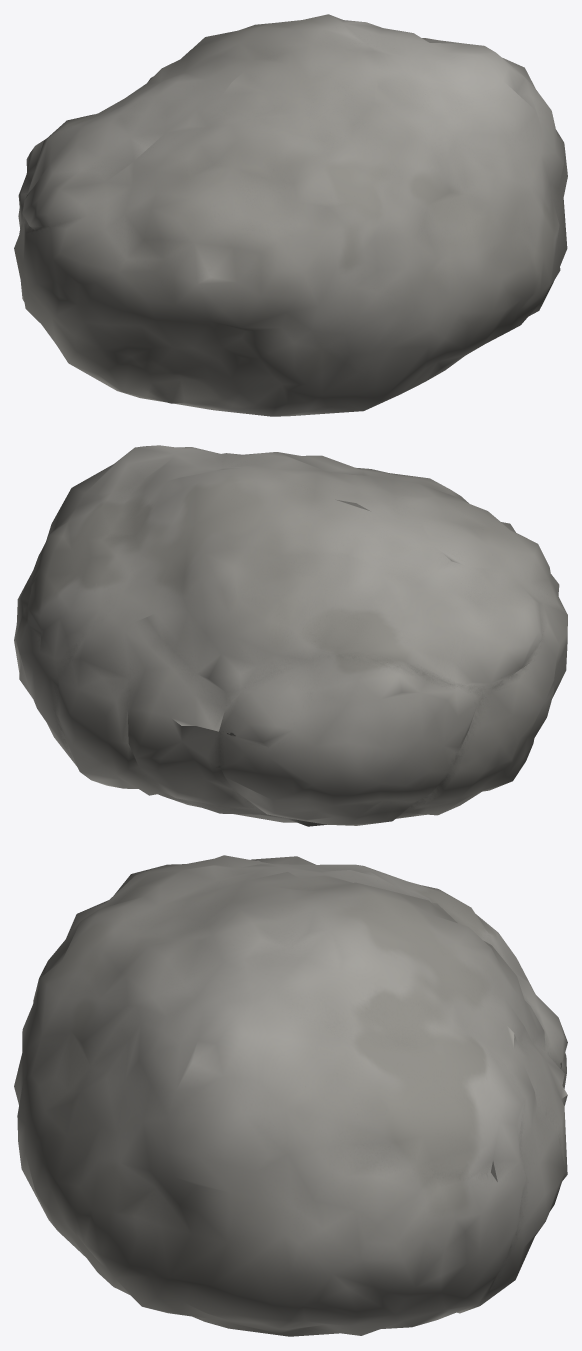
The model's file is piedra_gris.fbx.
3 views of the same model, one above another, from view 1: azimuth 30°, elevation 25°; view 2: azimuth 150°, elevation 25°; view 3: azimuth 270°, elevation 25° (orthographic). The views are drawn at different scales.
Parts seen in each view (by area): view 1: piedra_gris; view 2: piedra_gris; view 3: piedra_gris.
Part boxes in pixels (<box>): piedra_gris: <box>14,14,567,416</box>; piedra_gris: <box>14,445,567,826</box>; piedra_gris: <box>14,855,567,1336</box>.
Bounding box in the file's own units: 2.65 × 1.51 × 2.06.
1 material, 1 textured.
